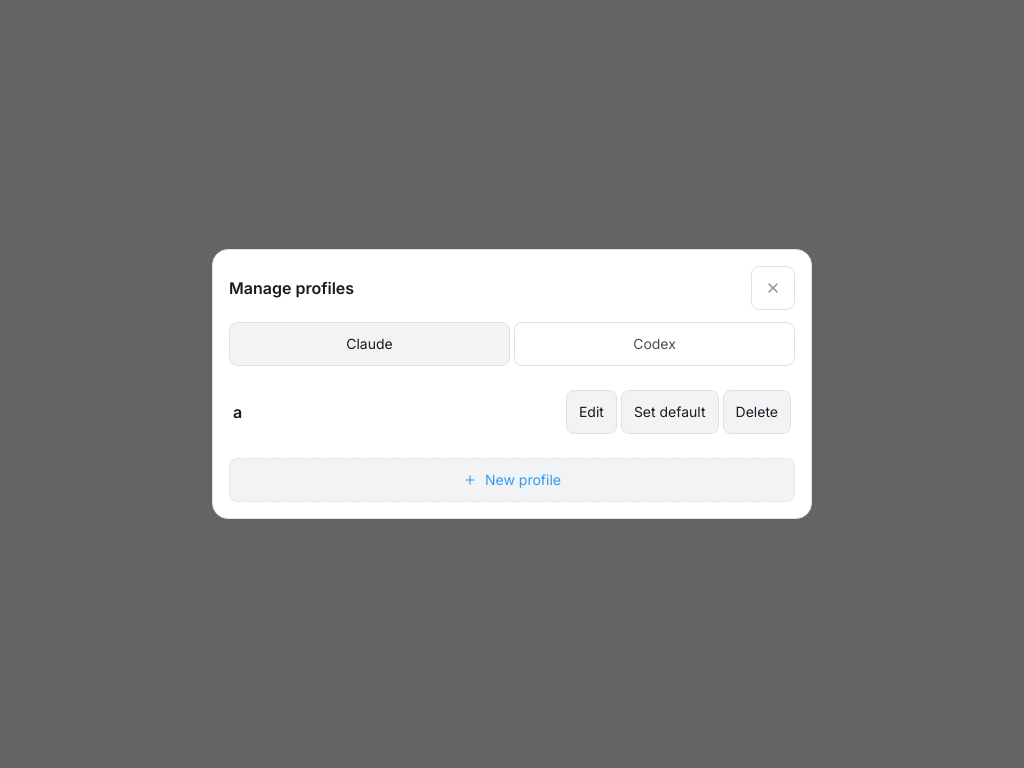
Test: ProfileEditor › clicking Edit expands inline form with DirPicker
The width and height of the screenshot is (1024, 768).
Click the button with aria-label "edit a" at {"x": 591, "y": 412}, box [566, 390, 617, 434]
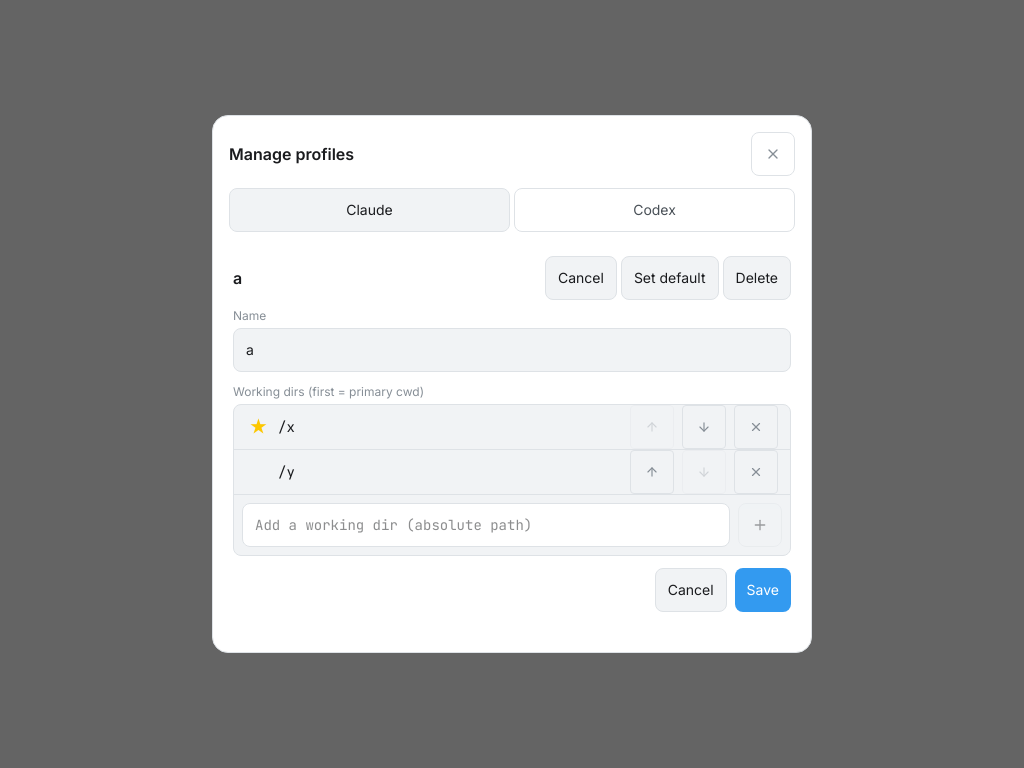
expect the element showing "Name Working dirs (first = primary cwd) ★ /x /y Cancel Save" is shown: met, box [233, 308, 791, 612]
expect the element with test id "dir-picker" is shown: met, box [233, 404, 791, 556]
